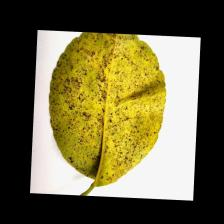canker: (62, 46, 142, 156)
